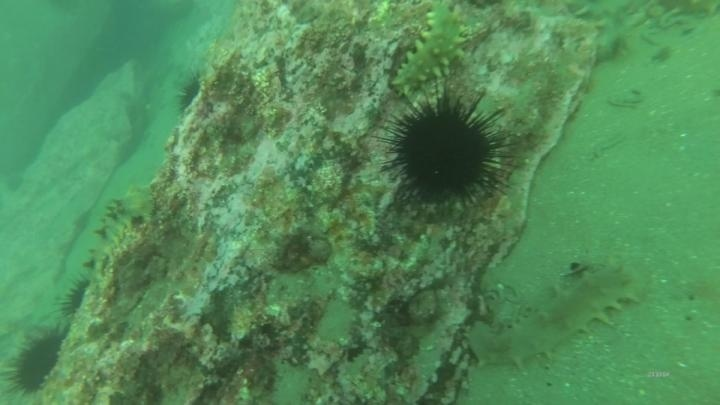echinus: (379, 88, 515, 212), (4, 324, 72, 399), (59, 277, 96, 324), (168, 73, 211, 111)
holothurian: (463, 262, 646, 372), (389, 1, 471, 101), (89, 182, 157, 258)
